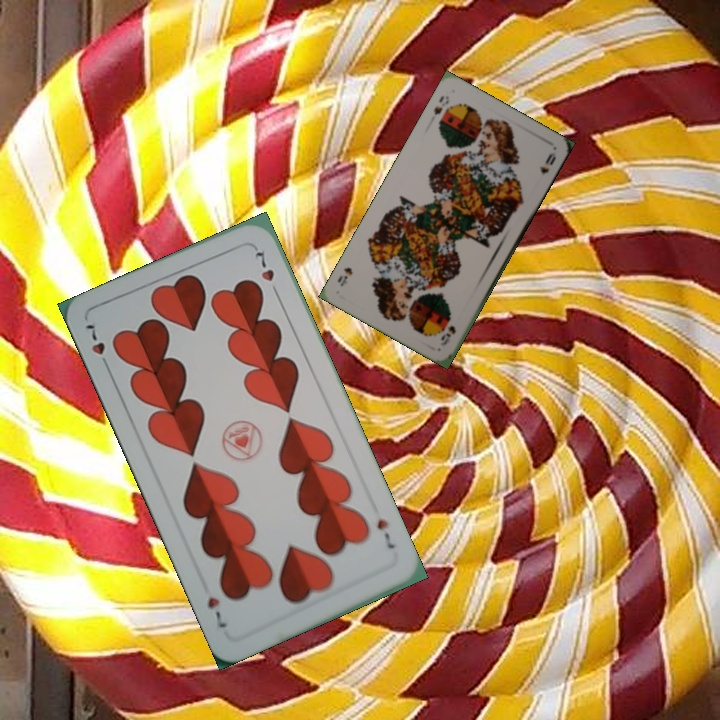H7: (82, 318, 113, 373), (372, 515, 398, 552)
SO: (430, 91, 452, 117), (437, 321, 458, 348)
